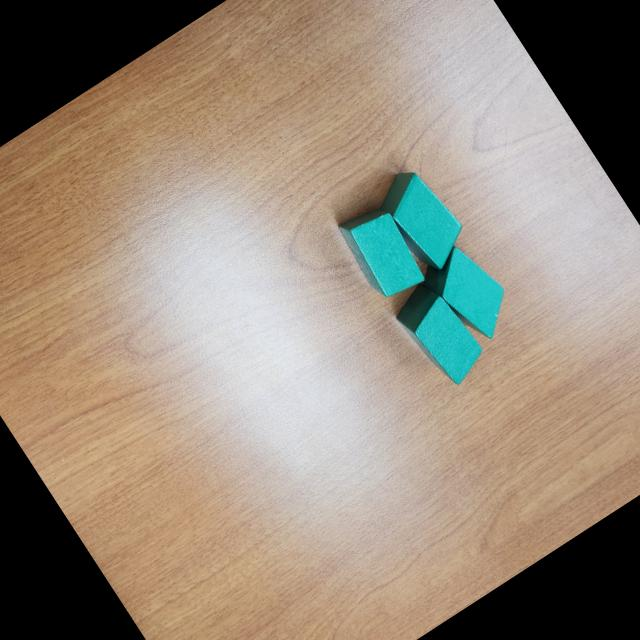green: (414, 234, 524, 354), (368, 160, 474, 279), (388, 274, 492, 392), (332, 195, 433, 308)
